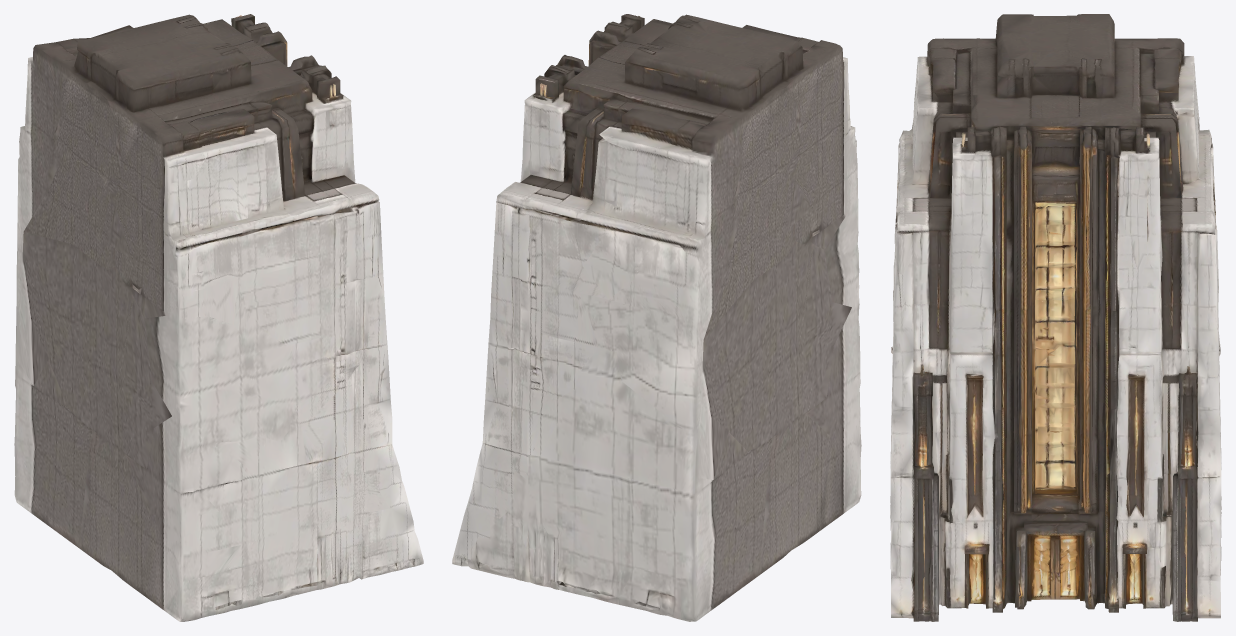
File: portalTower.glb
The picture shows the model from 3 angles, left to right: view 1: azimuth 30°, elevation 25°; view 2: azimuth 150°, elevation 25°; view 3: azimuth 270°, elevation 25°; orthographic projection.
Visible parts, largest first — view 1: portalTower; view 2: portalTower; view 3: portalTower.
Boxes of the visible parts, x1,y1,x2,y2 form: portalTower: (14, 14, 423, 621); portalTower: (452, 14, 861, 621); portalTower: (890, 14, 1221, 621).
Size of the model in its own units: 24 by 46 by 28.
1 material, 1 textured.
